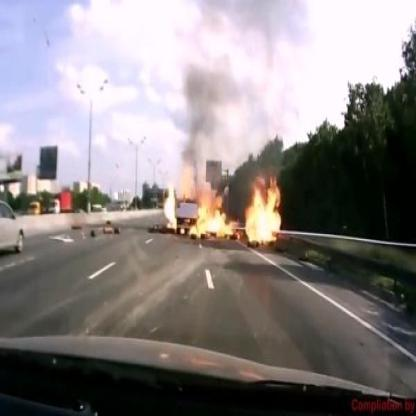fire: (188, 168, 284, 246), (162, 178, 178, 234)
